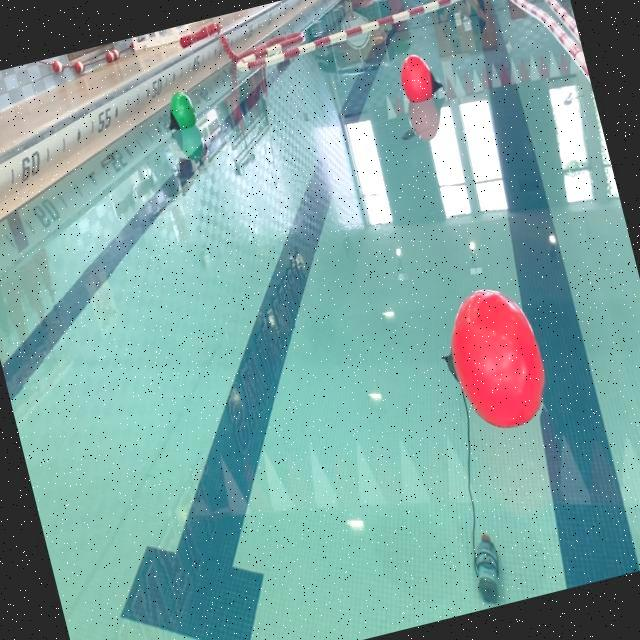buoy: (428, 277, 556, 439), (395, 46, 449, 106), (160, 88, 198, 134)
